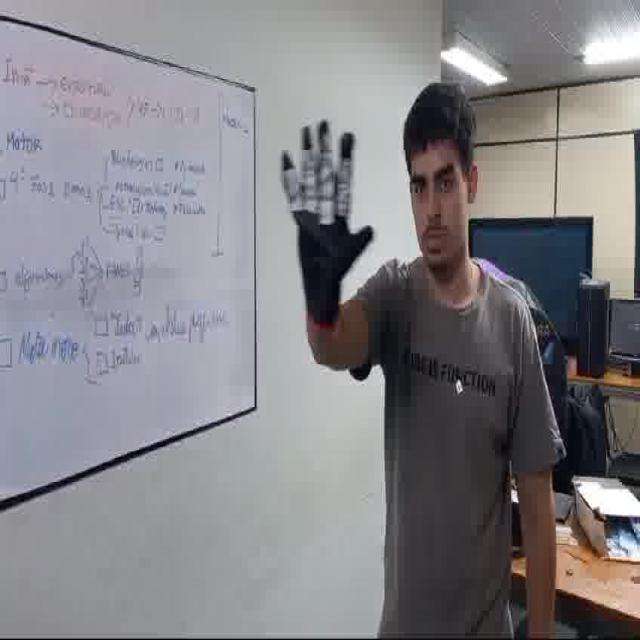Gloves: (278, 115, 374, 329)
